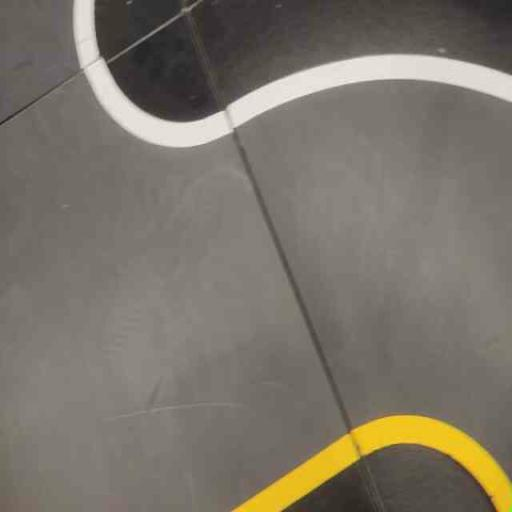left: (216, 12, 511, 511)
